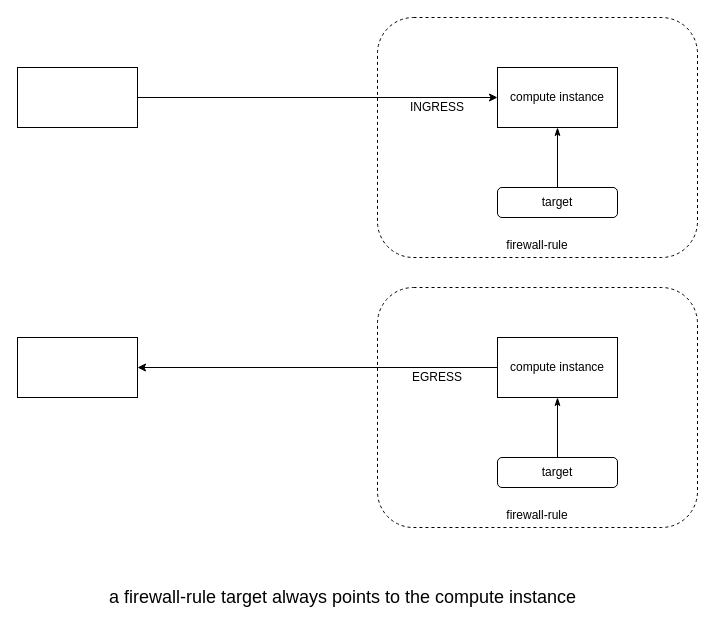
Some shapes in this 715 by 626 pixel diagram are drawn without their labels. Here are the shapes that lost their labels. From the top down, the box of each, then its label:
(16, 66, 138, 128): source
(16, 336, 138, 398): destination
